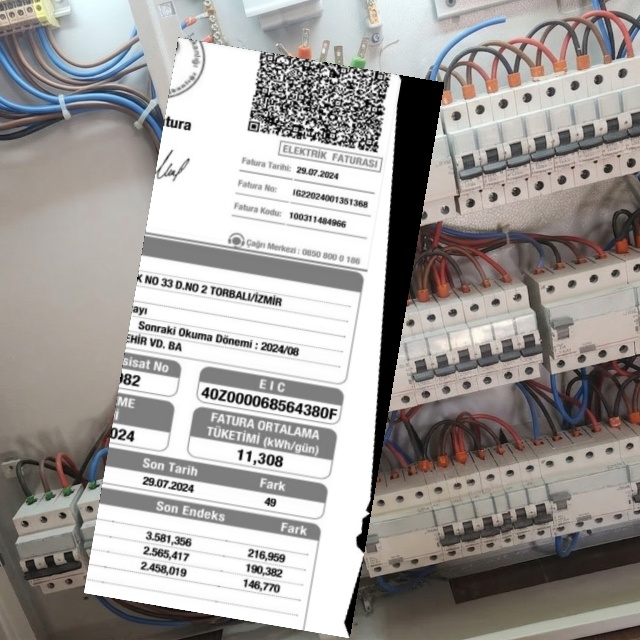electricity-bill: (84, 37, 444, 639)
